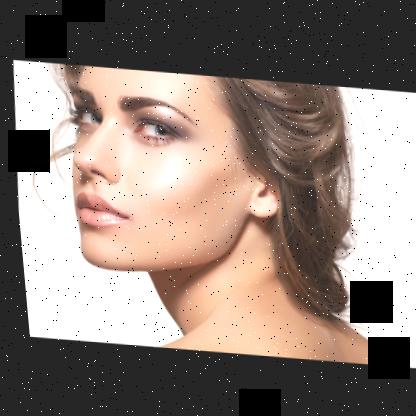Female: (53, 63, 286, 281)
